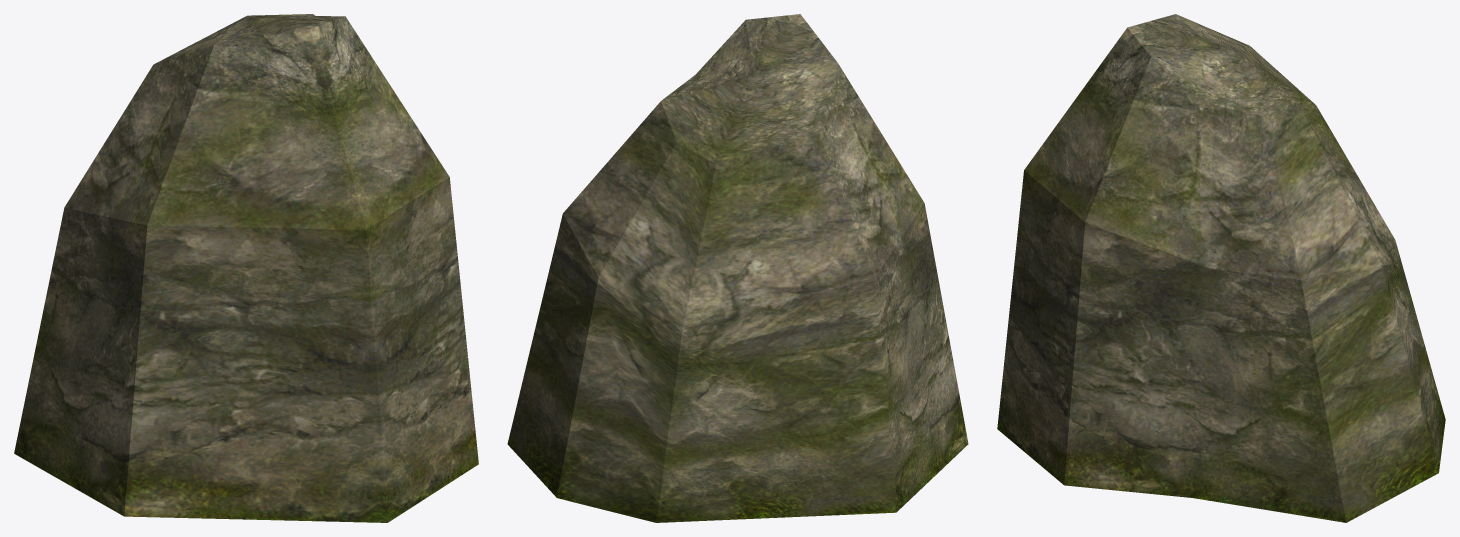
File: Youshuizhou_zhiwu_016_4.FBX
3 renders of one model, left to right at view 1: azimuth 30°, elevation 25°; view 2: azimuth 150°, elevation 25°; view 3: azimuth 270°, elevation 25°, orthographic. The views are drawn at different scales.
Visible parts, largest first — view 1: gy_st_yanshi001_lj4; view 2: gy_st_yanshi001_lj4; view 3: gy_st_yanshi001_lj4.
Boxes of the visible parts, left/top/right/bottom form: gy_st_yanshi001_lj4: left=14, top=14, right=478, bottom=522; gy_st_yanshi001_lj4: left=507, top=14, right=968, bottom=522; gy_st_yanshi001_lj4: left=997, top=14, right=1445, bottom=522.
Bounding box in the file's own units: 498 × 518 × 522.
